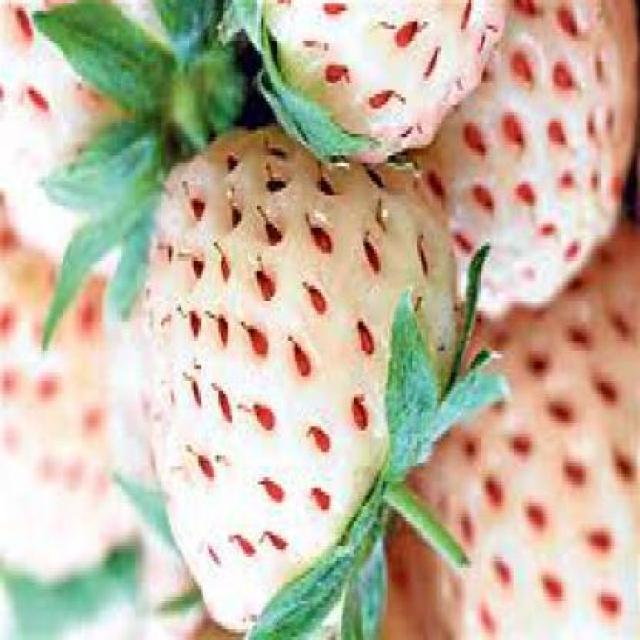BIODEGRADABLE: (142, 128, 454, 629), (382, 222, 640, 639), (35, 0, 244, 348), (412, 0, 638, 316), (0, 245, 163, 578), (228, 0, 505, 162), (0, 0, 109, 258), (0, 540, 139, 638), (113, 471, 181, 558), (158, 585, 202, 615)
